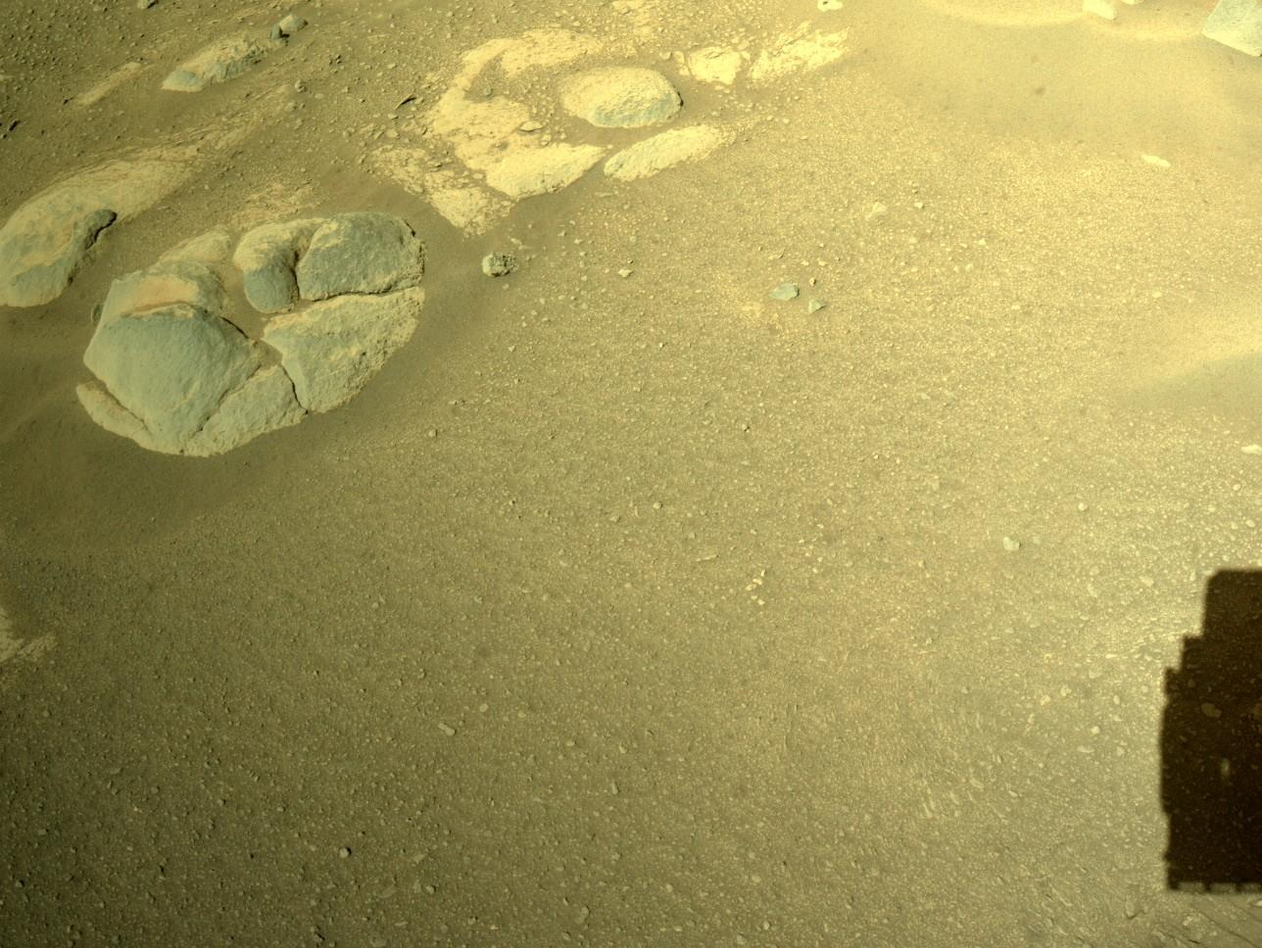bedrock: (3, 5, 946, 542), (1003, 3, 1256, 18)
soil: (5, 8, 1261, 946)
